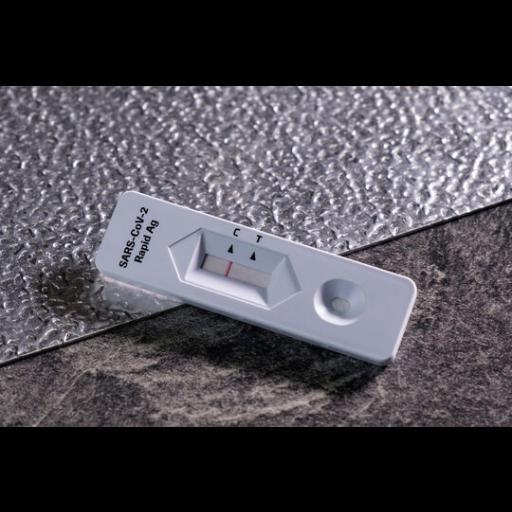Neg: (93, 187, 418, 362)
